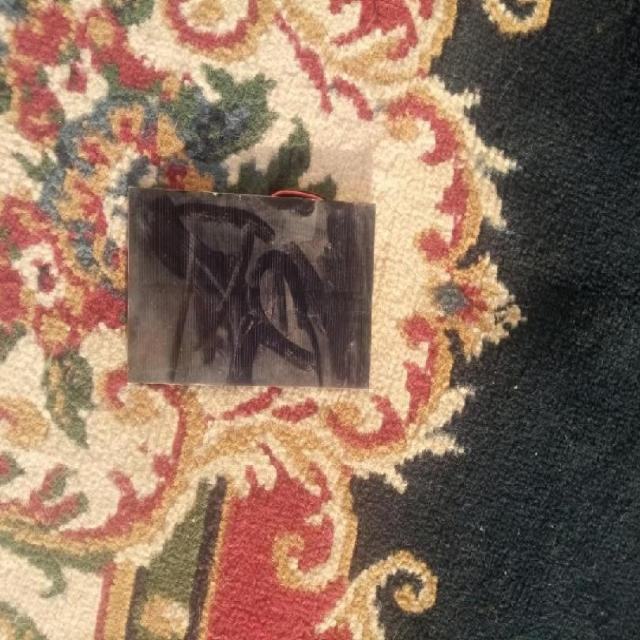faulty: (133, 187, 353, 396)
